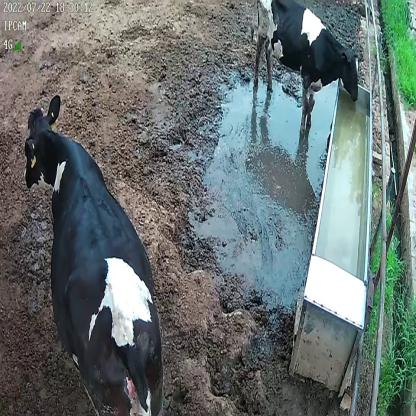cow: (23, 90, 166, 416), (249, 0, 361, 134)
